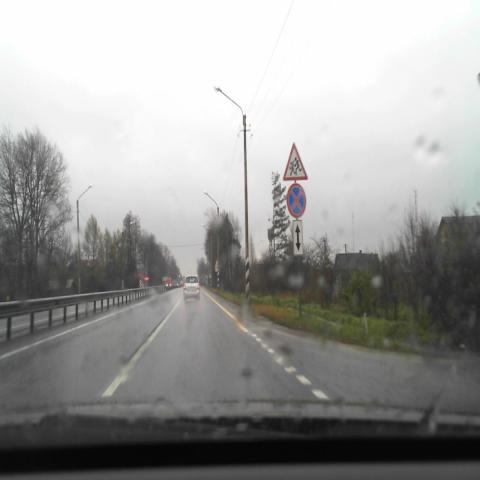8_2_4: (293, 220, 303, 255)
